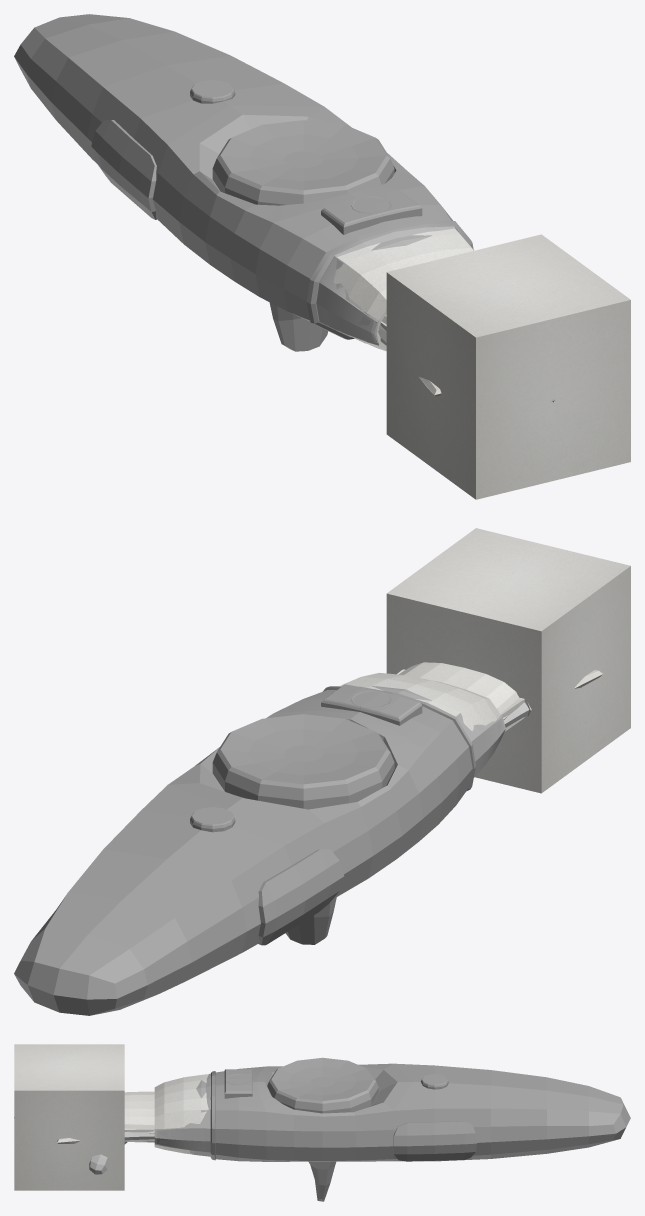
Rendered from Controller_GeoV005.fbx.
3 renders of one model, top to bottom at view 1: azimuth 30°, elevation 25°; view 2: azimuth 150°, elevation 25°; view 3: azimuth 270°, elevation 25°, orthographic. The views are drawn at different scales.
Visible parts, largest first — view 1: Shape_Square_Geo, Body_Geo1, centerButton_Geo, deleteHead_Geo, GripRight_Geo, PlierHead_Geo, topButtonSquare_Geo, MouthPiece_Geo, Ztrigger_Geo, bottomButton_Geo; view 2: Body_Geo1, Shape_Square_Geo, centerButton_Geo, GripRight_Geo, deleteHead_Geo, EraserdeleteTool_Geo, topButtonSquare_Geo, PlierHead_Geo, Ztrigger_Geo, bottomButton_Geo, MouthPiece_Geo; view 3: Body_Geo1, Shape_Square_Geo, centerButton_Geo, GripLeft_Geo, deleteHead_Geo, PlierHead_Geo, EraserdeleteTool_Geo, topButtonSquare_Geo, Ztrigger_Geo, MouthPiece_Geo, bottomButton_Geo, paintHead (+2 smaller).
Boxes of the visible parts, x1=… form: Shape_Square_Geo: x1=386, y1=234, x2=630, y2=499; Body_Geo1: x1=14, y1=14, x2=452, y2=321; centerButton_Geo: x1=212, y1=120, x2=394, y2=205; deleteHead_Geo: x1=333, y1=228, x2=473, y2=351; GripRight_Geo: x1=91, y1=120, x2=156, y2=219; PlierHead_Geo: x1=321, y1=226, x2=473, y2=342; topButtonSquare_Geo: x1=321, y1=190, x2=422, y2=234; MouthPiece_Geo: x1=306, y1=221, x2=473, y2=339; Ztrigger_Geo: x1=269, y1=302, x2=328, y2=351; bottomButton_Geo: x1=190, y1=80, x2=235, y2=103; Body_Geo1: x1=14, y1=690, x2=472, y2=1015; Shape_Square_Geo: x1=386, y1=528, x2=630, y2=793; centerButton_Geo: x1=212, y1=714, x2=394, y2=809; GripRight_Geo: x1=258, y1=849, x2=344, y2=945; deleteHead_Geo: x1=339, y1=672, x2=500, y2=731; EraserdeleteTool_Geo: x1=399, y1=662, x2=518, y2=719; topButtonSquare_Geo: x1=321, y1=684, x2=422, y2=725; PlierHead_Geo: x1=391, y1=692, x2=505, y2=777; Ztrigger_Geo: x1=285, y1=897, x2=336, y2=944; bottomButton_Geo: x1=190, y1=807, x2=235, y2=832; MouthPiece_Geo: x1=323, y1=686, x2=475, y2=791; Body_Geo1: x1=215, y1=1063, x2=630, y2=1161; Shape_Square_Geo: x1=14, y1=1044, x2=124, y2=1190; centerButton_Geo: x1=267, y1=1057, x2=378, y2=1113; GripLeft_Geo: x1=393, y1=1121, x2=476, y2=1161; deleteHead_Geo: x1=154, y1=1074, x2=208, y2=1154; PlierHead_Geo: x1=154, y1=1073, x2=210, y2=1151; EraserdeleteTool_Geo: x1=124, y1=1091, x2=154, y2=1142; topButtonSquare_Geo: x1=224, y1=1069, x2=252, y2=1098; Ztrigger_Geo: x1=308, y1=1161, x2=336, y2=1201; MouthPiece_Geo: x1=210, y1=1071, x2=215, y2=1160; bottomButton_Geo: x1=421, y1=1074, x2=448, y2=1089; paintHead: x1=154, y1=1127, x2=210, y2=1156.
Bounding box in the file's own units: 5.01 × 5.18 × 22.01.
